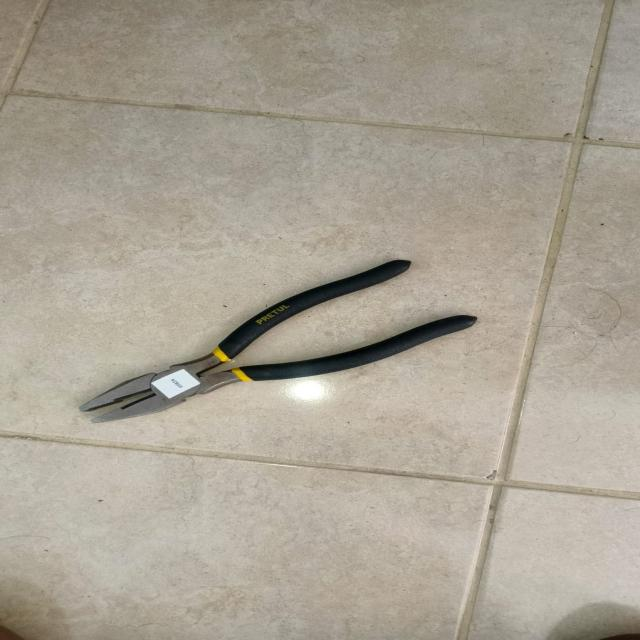alicate: (29, 248, 510, 434)
